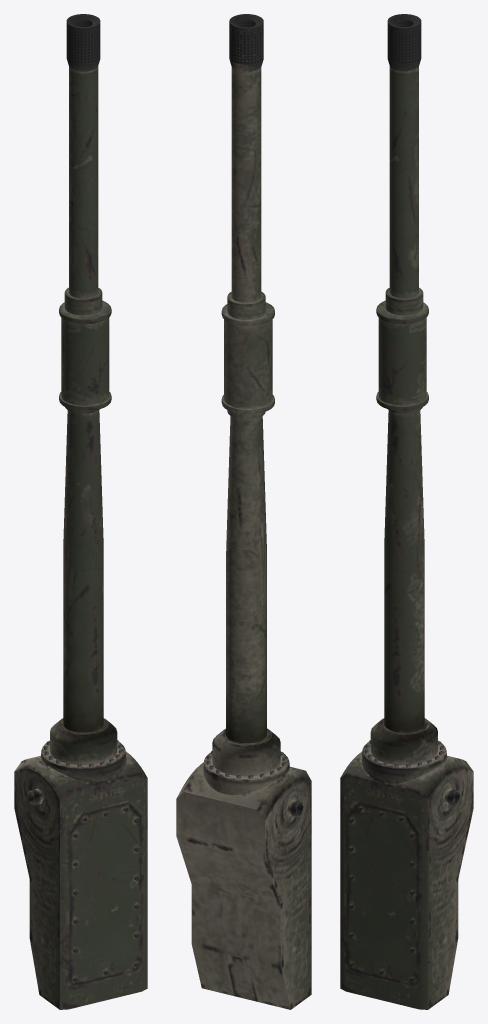
The model's file is Gun_05.glb.
3 views of the same model, side by side, from view 1: azimuth 30°, elevation 25°; view 2: azimuth 150°, elevation 25°; view 3: azimuth 330°, elevation 25° (orthographic).
Parts seen in each view (by area): view 1: set_0_group_0; view 2: set_0_group_0; view 3: set_0_group_0.
Part boxes in pixels (box(x1,y1,x2,y2)): set_0_group_0: box(14, 14, 147, 1009); set_0_group_0: box(176, 14, 311, 1009); set_0_group_0: box(340, 14, 473, 1009).
Bounding box in the file's own units: 0.7142 × 6.31 × 0.577.
Materials: 1 (1 with a texture image).
